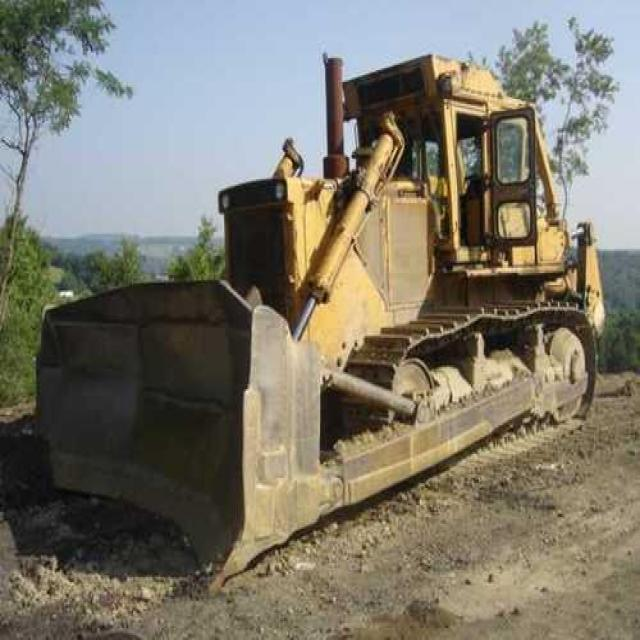buldozerpayloadergrader: (27, 20, 631, 582)
